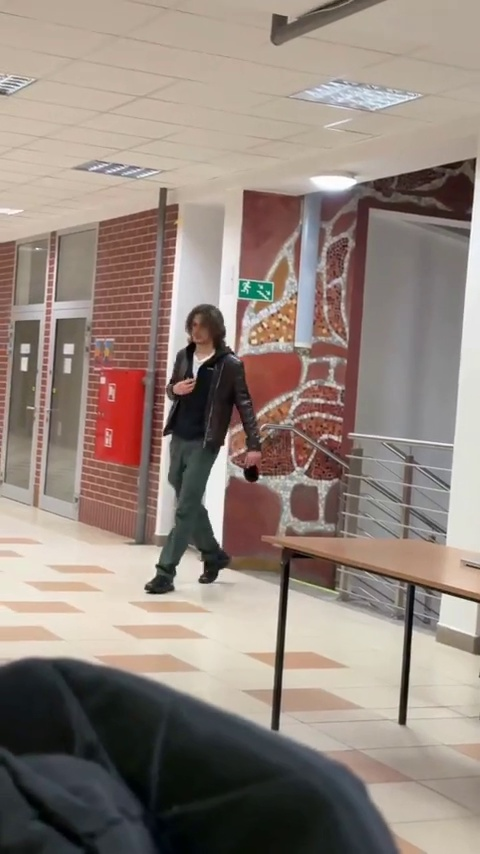no vest: (148, 299, 265, 595)
